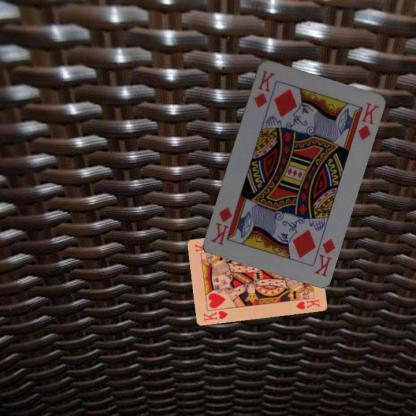Kd: (311, 235, 336, 278), (251, 67, 276, 109)
Kh: (201, 308, 229, 322)
